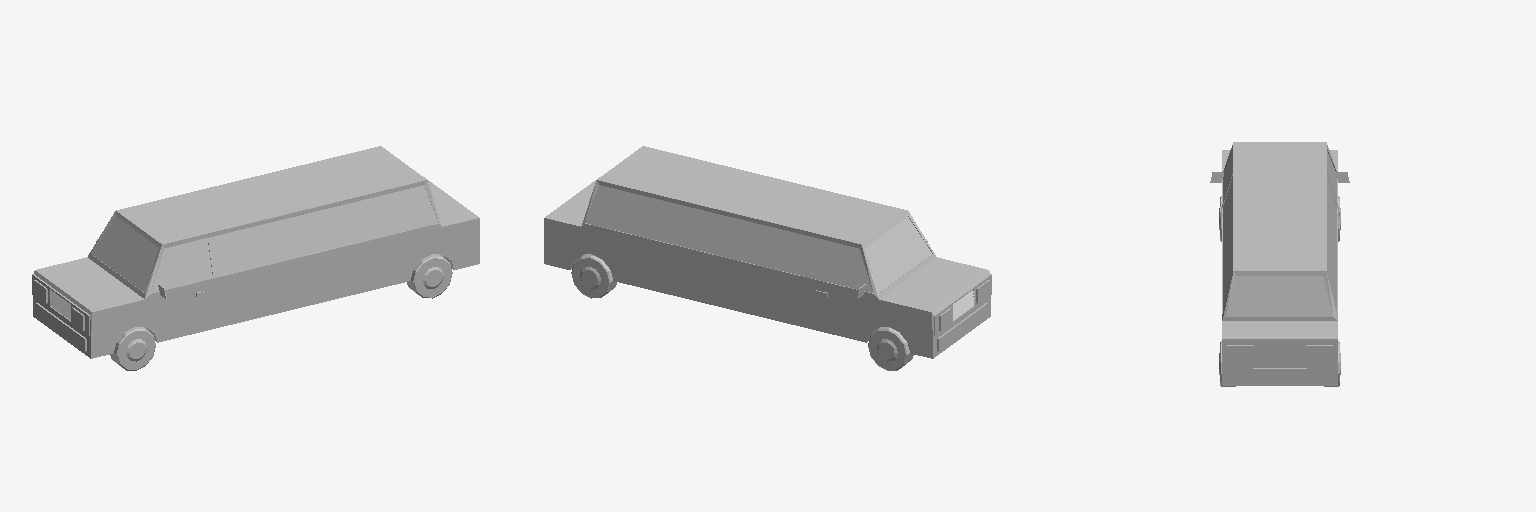
The model's file is carro3.obj.
The picture shows the model from 3 angles: view 1: azimuth 30°, elevation 25°; view 2: azimuth 150°, elevation 25°; view 3: azimuth 270°, elevation 25°; orthographic projection.
Visible parts, largest first — view 1: polySurface66 polySurface40 polySurface21 Cars:Mesh polySurface6, polySurface66 polySurface40 polySurface21 Cars:Mesh polySurface7; view 2: polySurface66 polySurface40 polySurface21 Cars:Mesh polySurface6, polySurface66 polySurface40 polySurface21 Cars:Mesh polySurface7; view 3: polySurface66 polySurface40 polySurface21 Cars:Mesh polySurface6, polySurface66 polySurface40 polySurface21 Cars:Mesh polySurface7.
Boxes of the visible parts, x1=… form: polySurface66 polySurface40 polySurface21 Cars:Mesh polySurface6: x1=32, y1=146, x2=479, y2=370; polySurface66 polySurface40 polySurface21 Cars:Mesh polySurface7: x1=34, y1=280, x2=166, y2=330; polySurface66 polySurface40 polySurface21 Cars:Mesh polySurface6: x1=544, y1=146, x2=991, y2=358; polySurface66 polySurface40 polySurface21 Cars:Mesh polySurface7: x1=571, y1=239, x2=989, y2=370; polySurface66 polySurface40 polySurface21 Cars:Mesh polySurface6: x1=1219, y1=142, x2=1337, y2=386; polySurface66 polySurface40 polySurface21 Cars:Mesh polySurface7: x1=1210, y1=172, x2=1340, y2=386.
Size of the model in its own units: 5.92 by 1.63 by 1.81.